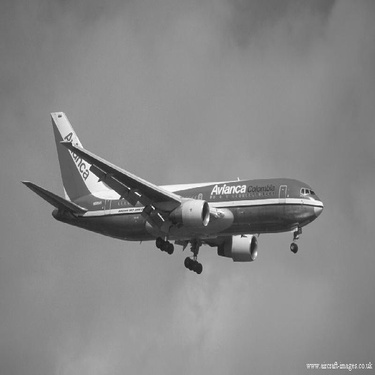airplane: (10, 103, 332, 285)
